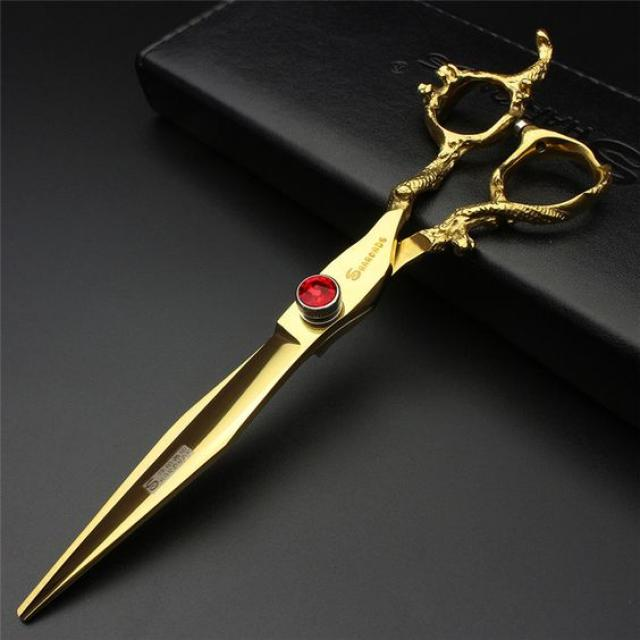Gunting: (7, 29, 610, 628)
